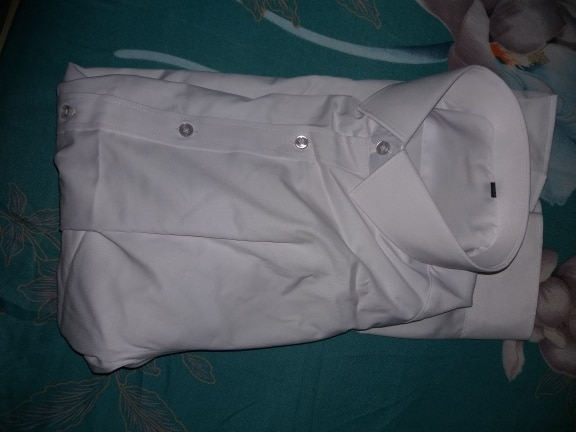shirts: (44, 34, 560, 376)
